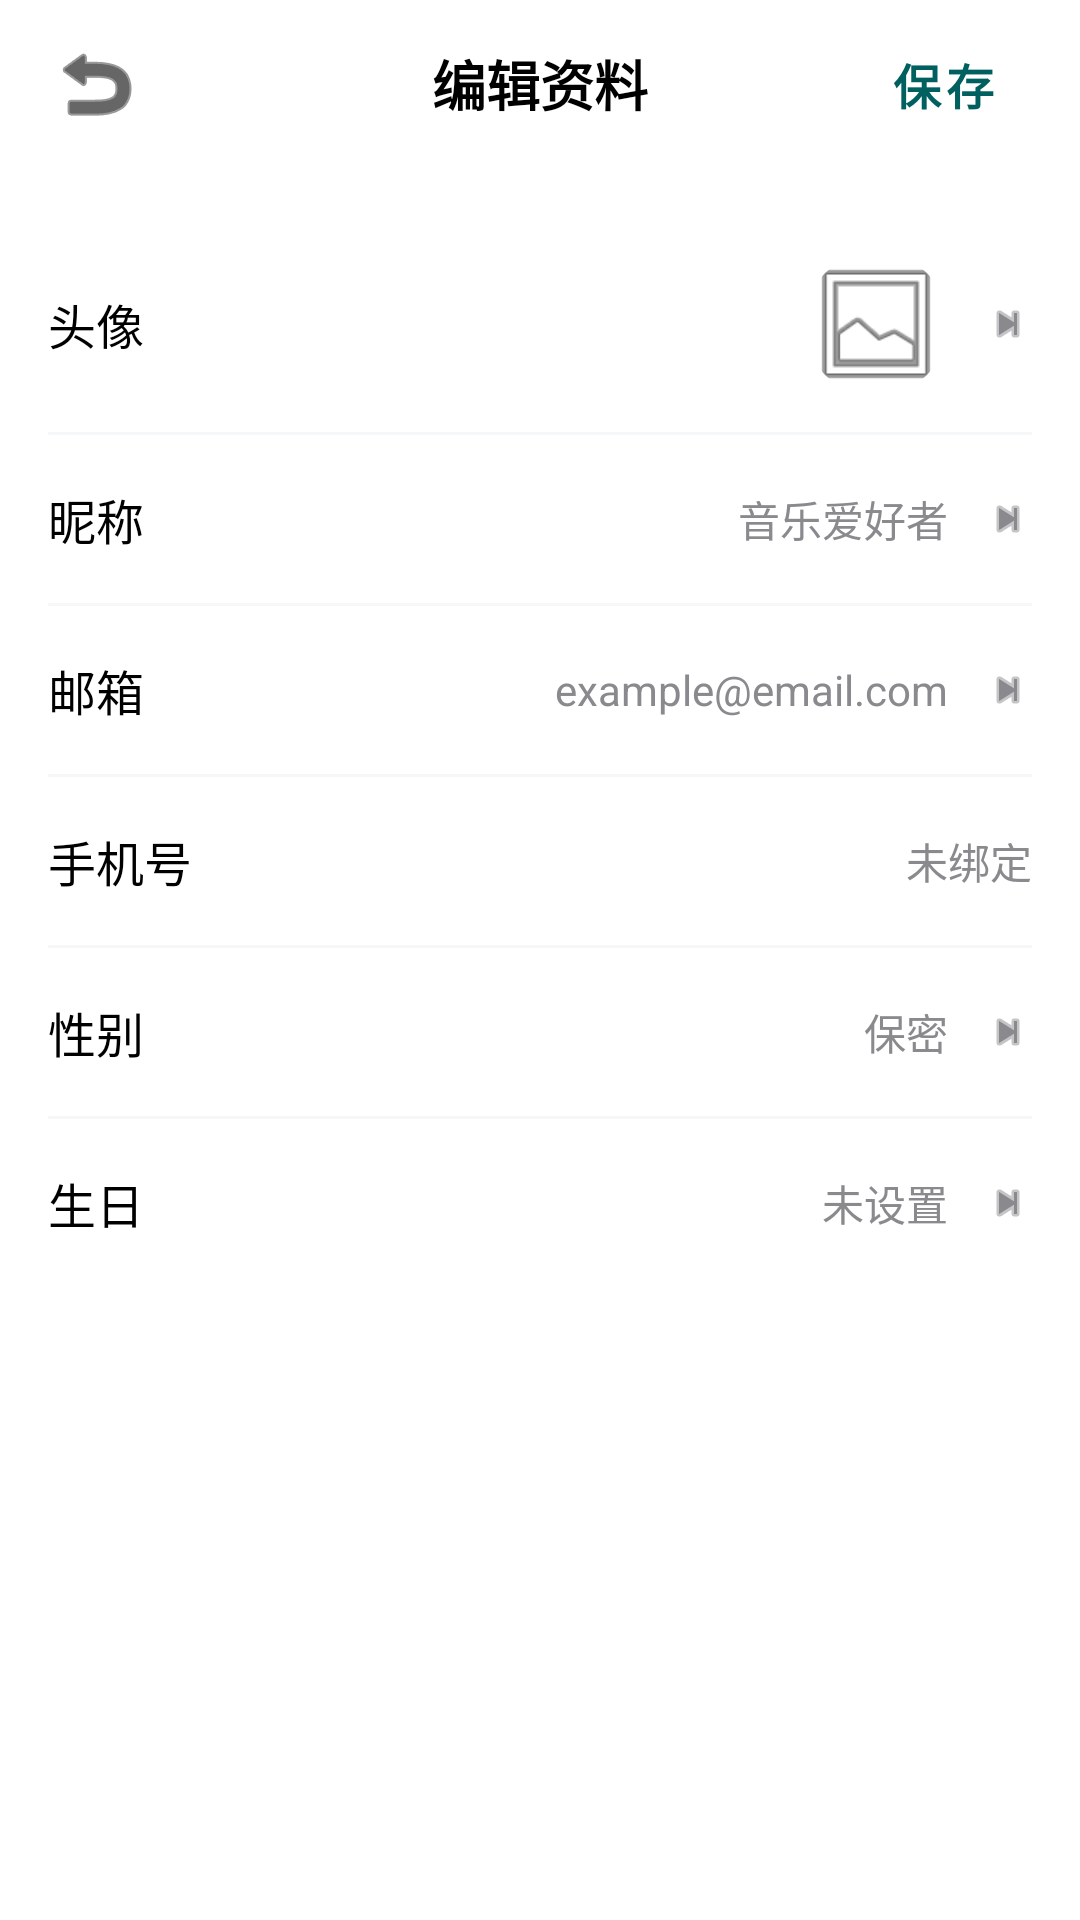

Point at icon controls on the screen. Image size 1080px x 1920px, points as (x,y).
gallery: (876,324)
next: (1008,324), (1008,519), (1008,690), (1008,1032), (1008,1203)
revert: (97,84)
